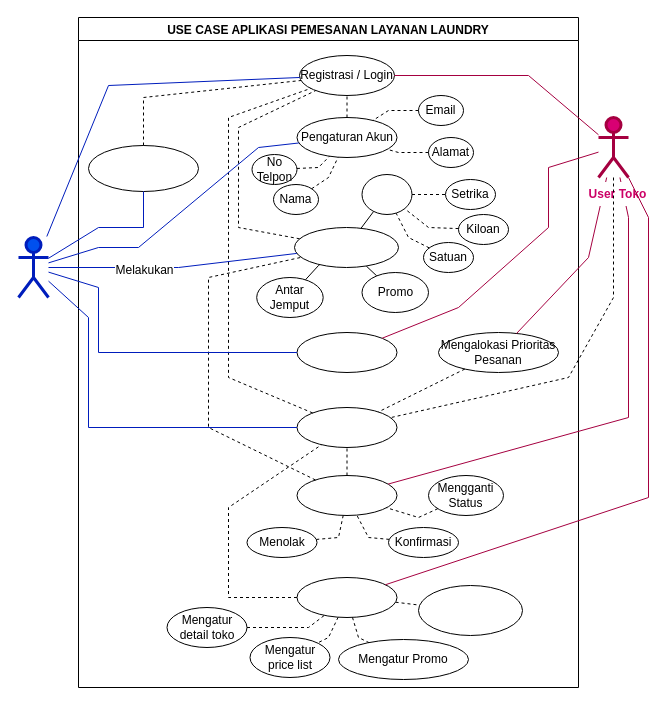
Image size: 667x705. Some labels were removed from this diagram. Each missing label, with the box of its shape:
Laundry: (361, 174, 412, 214)
Membuat Toko: (296, 406, 397, 448)
Mengatur Jadwal Penyucian: (418, 584, 522, 636)
Mengelola Pesanan: (296, 474, 397, 516)
Pemesanan Jasa: (294, 226, 398, 268)
Pengaturan Toko: (296, 576, 397, 618)
Riwayat Transaksi: (296, 332, 397, 372)
Transaksi Pembayaran: (88, 144, 198, 192)
User: (16, 236, 50, 298)
